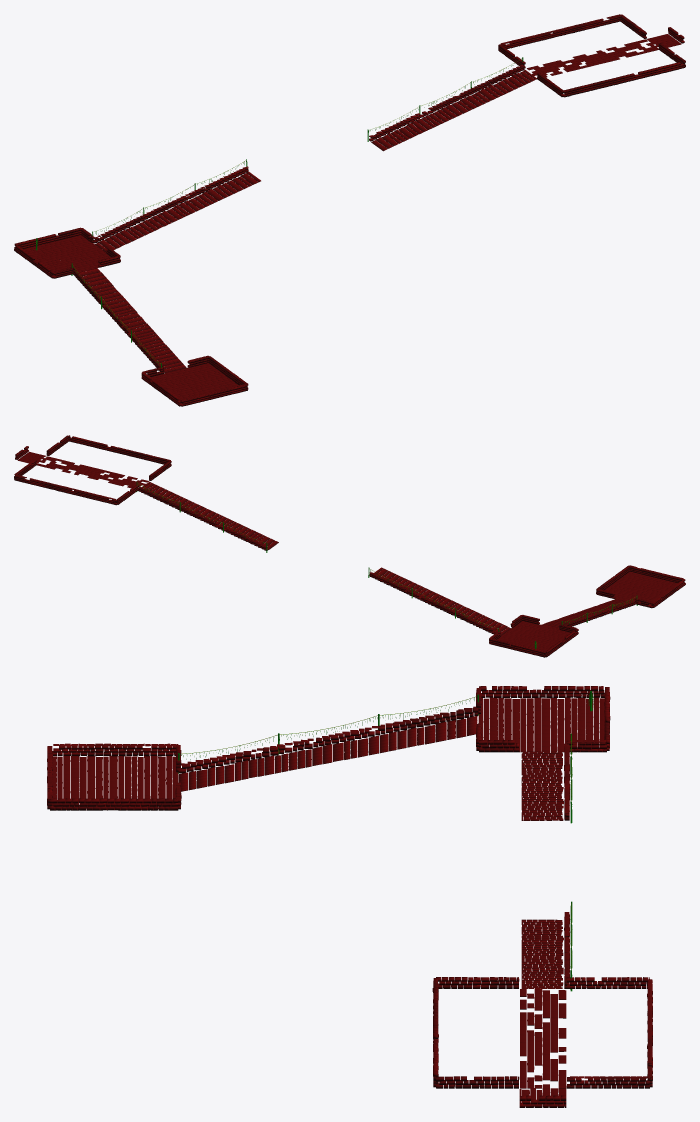
Rendered from keth_pass_road.glb.
3 views of the same model, one above another, from view 1: azimuth 30°, elevation 25°; view 2: azimuth 150°, elevation 25°; view 3: azimuth 270°, elevation 25° (orthographic). The views are drawn at different scales.
Parts seen in each view (by area): view 1: keth_pass_road; view 2: keth_pass_road; view 3: keth_pass_road.
Boxes of the visible parts, bbox=[...] form: keth_pass_road: bbox=[14, 14, 685, 406]; keth_pass_road: bbox=[14, 435, 685, 657]; keth_pass_road: bbox=[47, 686, 652, 1107].
Size of what is drawn, in the model's own units: 117 by 20.1 by 56.55.
